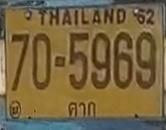0: (31, 32, 51, 88)
5: (68, 32, 88, 89)
6: (113, 31, 132, 88)
7: (11, 33, 30, 92)
9: (135, 31, 156, 88), (90, 32, 110, 88)
TAK: (65, 100, 100, 118)
